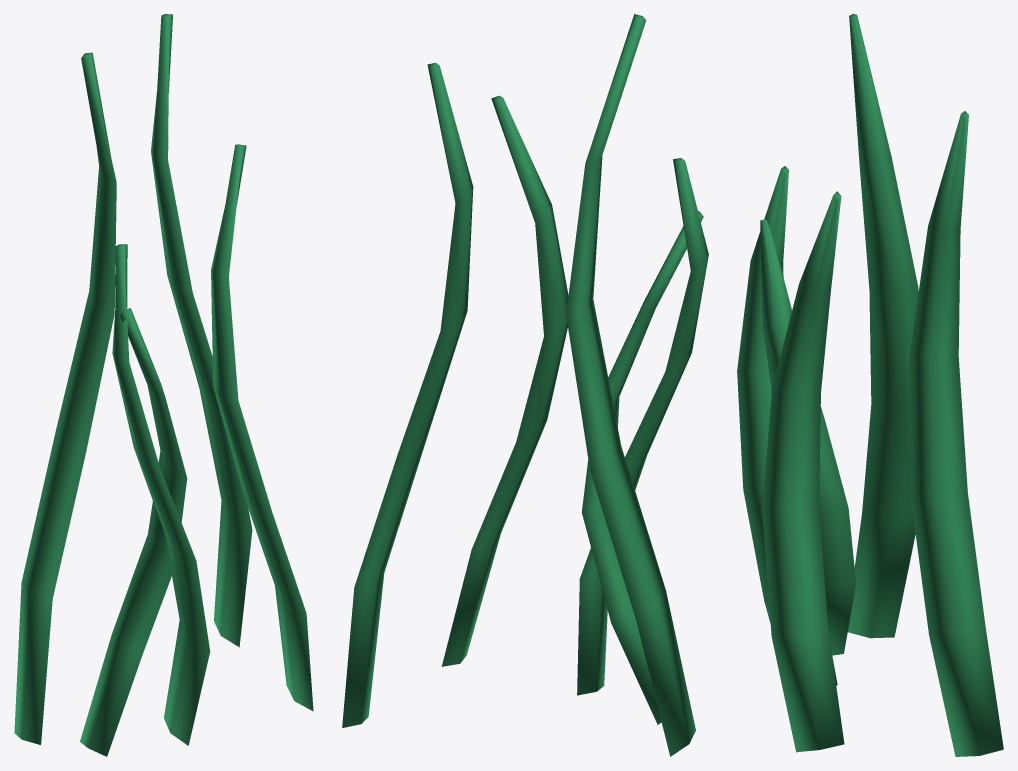
File: Seaweed.fbx
The picture shows the model from 3 angles, left to right: view 1: azimuth 30°, elevation 25°; view 2: azimuth 150°, elevation 25°; view 3: azimuth 270°, elevation 25°; orthographic projection. The views are drawn at different scales.
Visible parts, largest first — view 1: Seaweed.001; view 2: Seaweed.001; view 3: Seaweed.001.
Part boxes in pixels (x1,y1,x2,y2): Seaweed.001: (14,14,313,756); Seaweed.001: (342,14,708,756); Seaweed.001: (737,14,1003,756).
Size of the model in its own units: 0.3594 by 0.875 by 0.3263.
